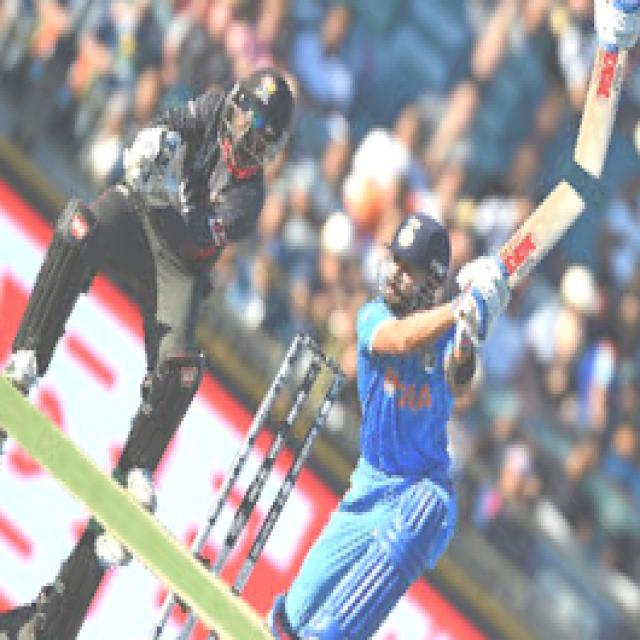bat: (495, 176, 594, 281)
